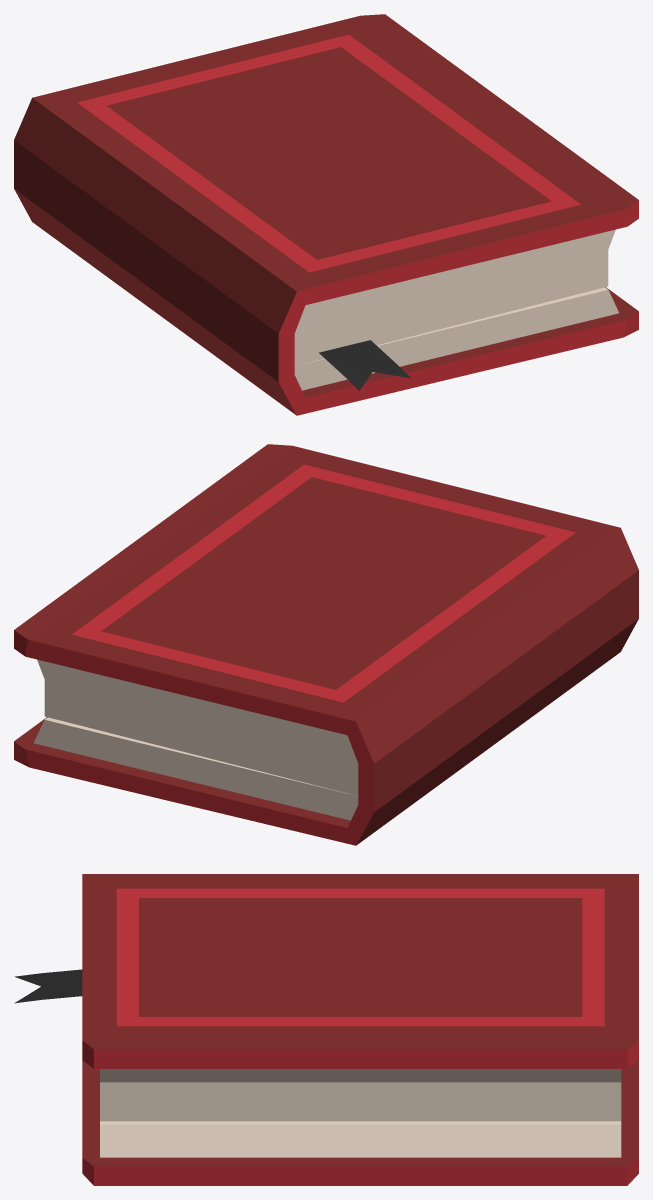
Rendered from fantasy_book-closed.fbx.
The picture shows the model from 3 angles, top to bottom: view 1: azimuth 30°, elevation 25°; view 2: azimuth 150°, elevation 25°; view 3: azimuth 270°, elevation 25°; orthographic projection. The views are drawn at different scales.
Visible parts, largest first — view 1: fantasy_book_closed; view 2: fantasy_book_closed; view 3: fantasy_book_closed.
Boxes of the visible parts, <box> form: fantasy_book_closed: <box>14,14,638,415</box>; fantasy_book_closed: <box>14,444,638,845</box>; fantasy_book_closed: <box>14,874,638,1185</box>.
Size of the model in its own units: 142 by 48.18 by 200.
